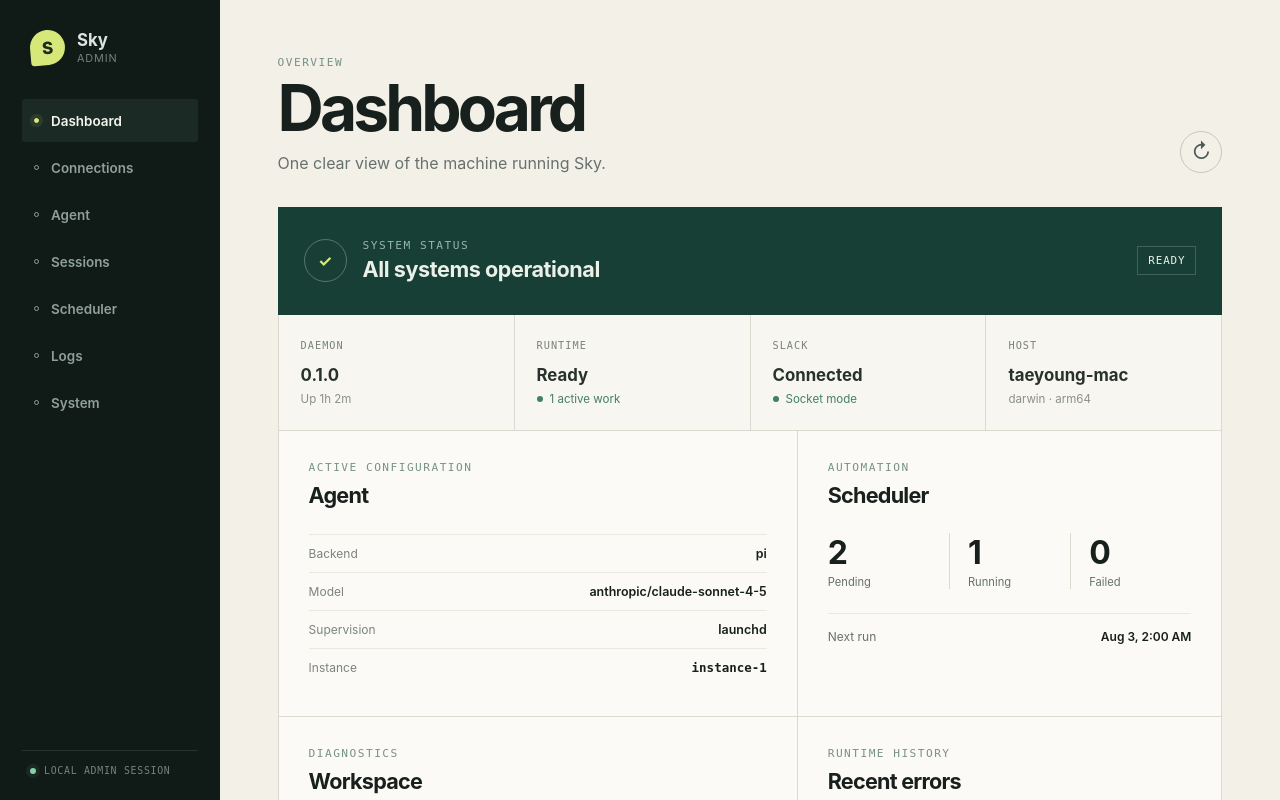
Test case: shows the full application shell and uses the real router
The image size is (1280, 800).
Expected: the text "taeyoung-mac" is shown, [1008,365,1128,385]
Expected: the heading "Dashboard" is shown, [278,77,606,140]
Click the link "Connections". click: (84, 168)
box: [34,160,133,176]
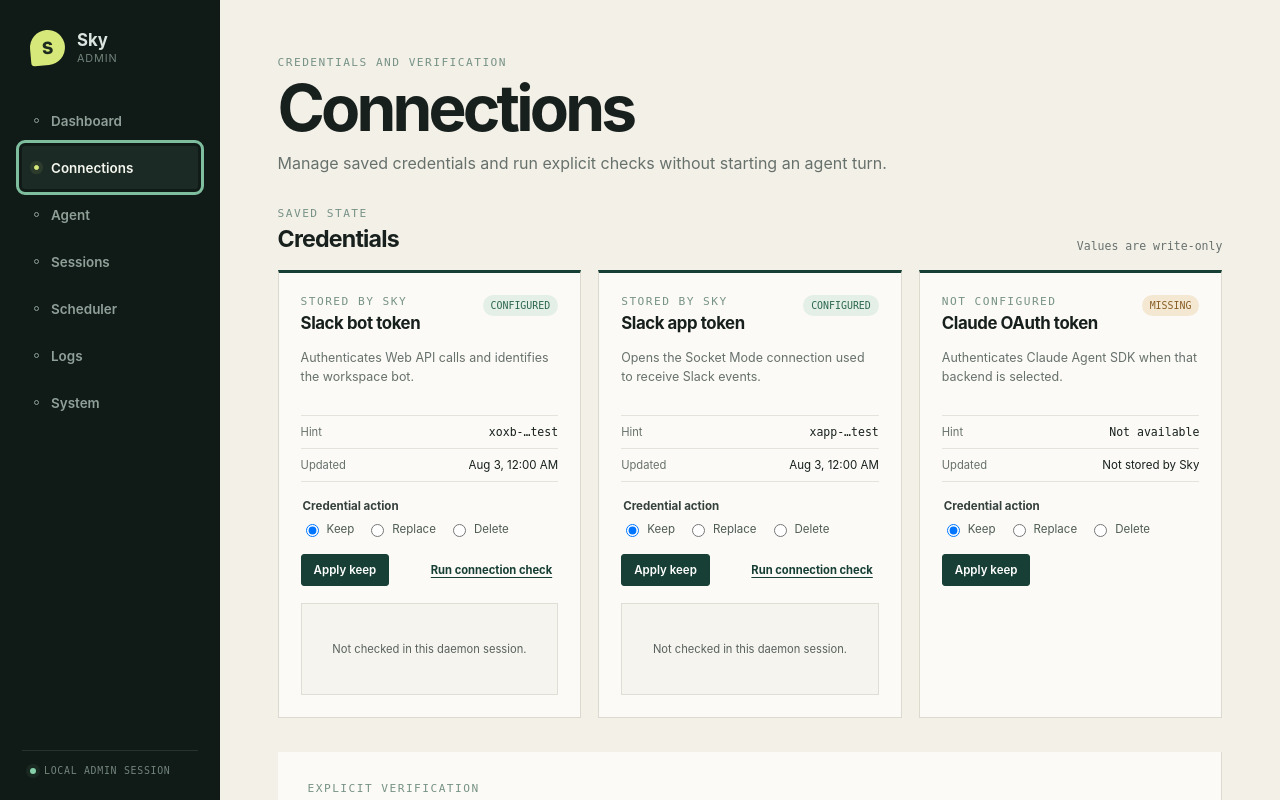
Expected: the heading "Connections" is shown, [278,69,633,146]
